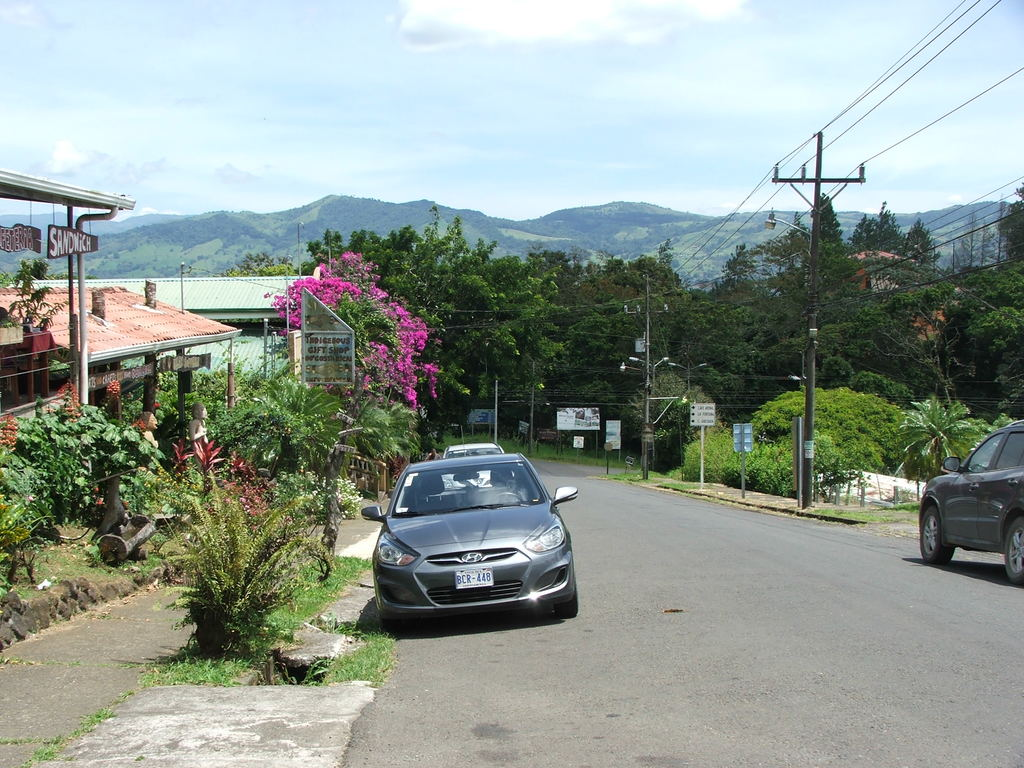mobil: (363, 455, 581, 639)
